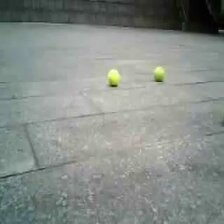tennis: (107, 70, 119, 85), (153, 67, 164, 80)
